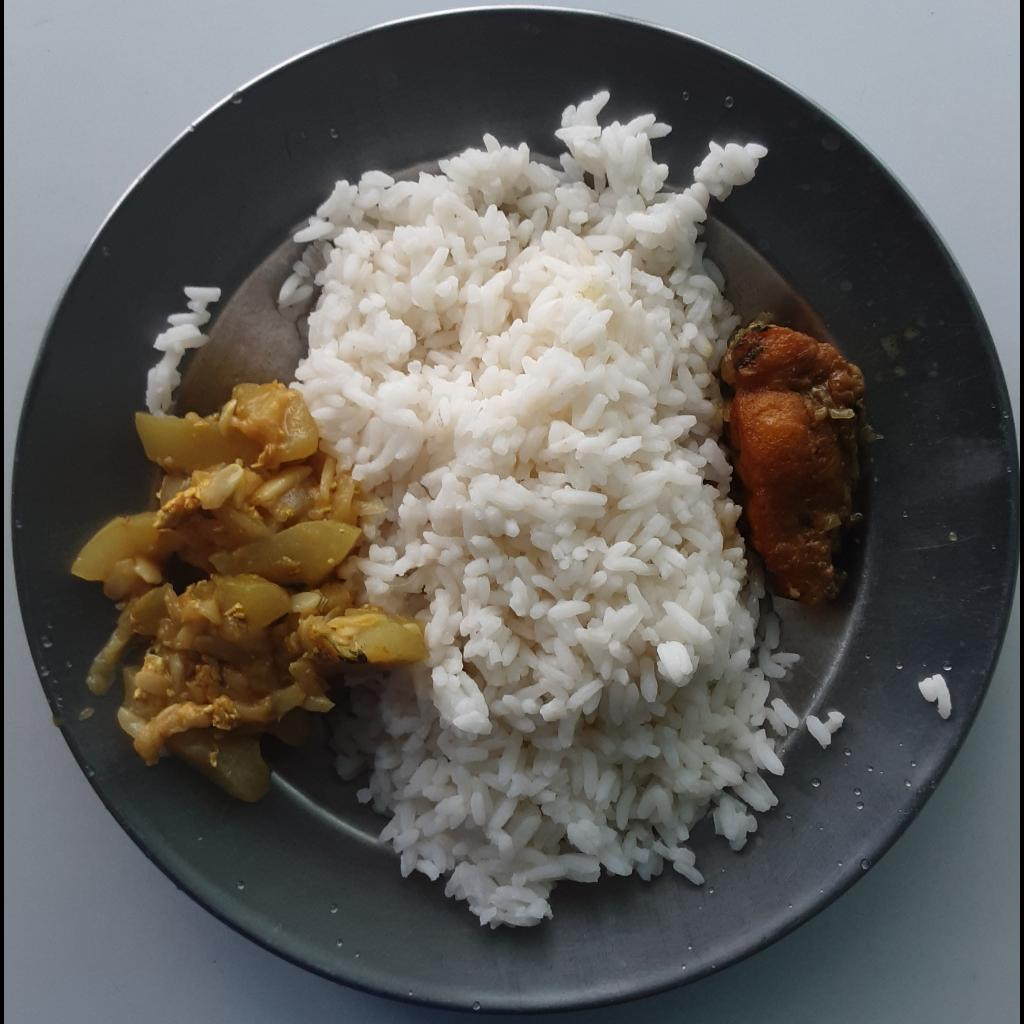fish: (719, 317, 868, 605)
lau: (70, 382, 426, 801)
rice: (282, 93, 852, 929)
